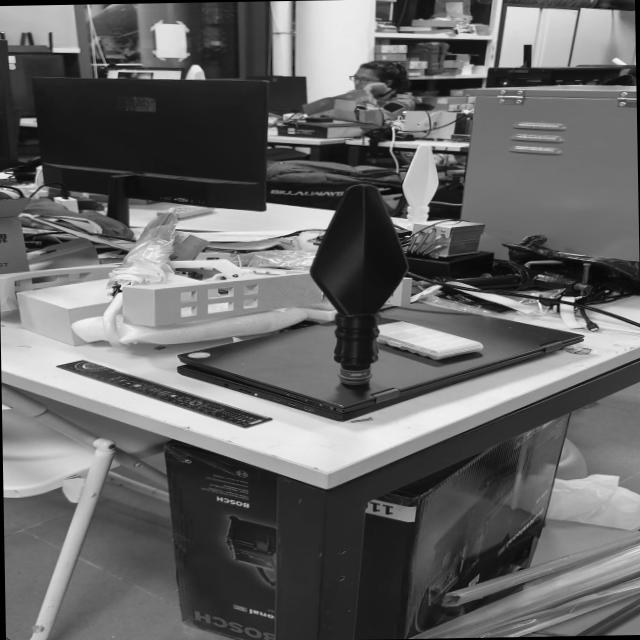base: (334, 365, 374, 388)
